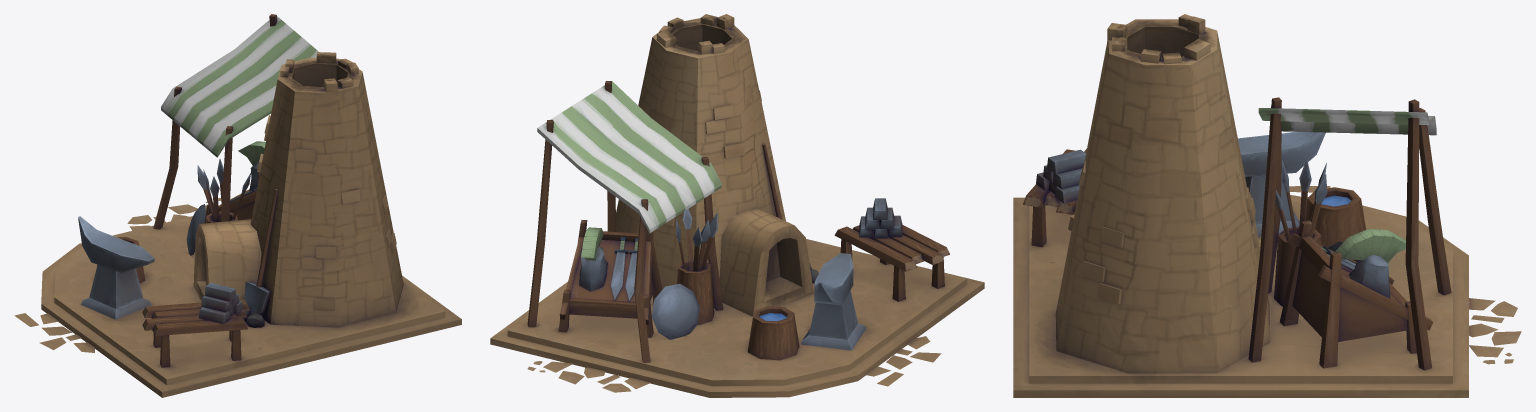
File: blacksmiths_forge.glb
The picture shows the model from 3 angles, left to right: view 1: azimuth 30°, elevation 25°; view 2: azimuth 150°, elevation 25°; view 3: azimuth 270°, elevation 25°; orthographic projection. The views are drawn at different scales.
Visible parts, largest first — view 1: Forge; view 2: Forge; view 3: Forge.
Part boxes in pixels (<box>): Forge: <box>14,14,461,397</box>; Forge: <box>490,14,984,397</box>; Forge: <box>1013,14,1521,397</box>.
Bounding box in the file's own units: 26.84 × 18.08 × 26.66.
Materials: 1 (1 with a texture image).
